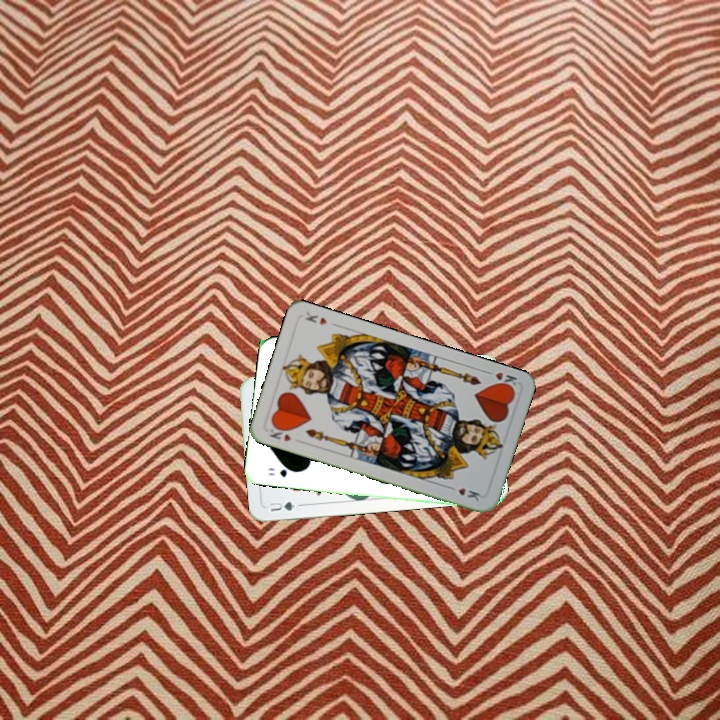GO: (263, 463, 300, 480)
GU: (264, 497, 297, 514)
HK: (481, 366, 520, 392), (265, 421, 293, 444)
